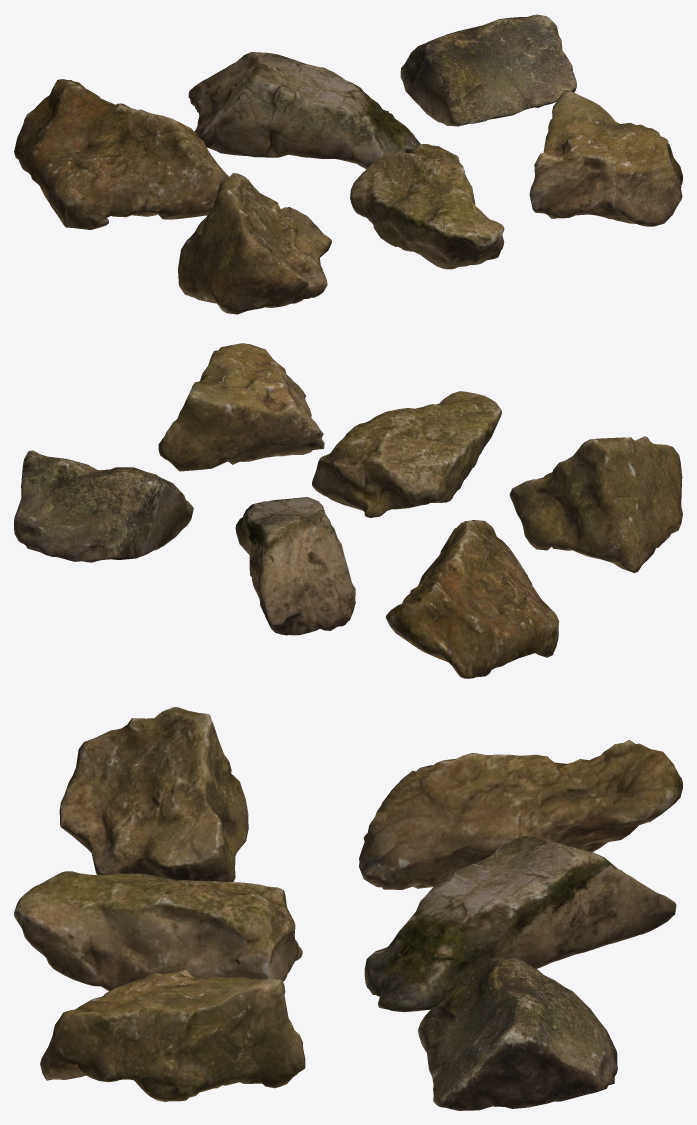
The picture shows the model from 3 angles, top to bottom: view 1: azimuth 30°, elevation 25°; view 2: azimuth 150°, elevation 25°; view 3: azimuth 270°, elevation 25°; orthographic projection. The views are drawn at different scales.
Visible parts, largest first — view 1: rock_moss_set_01_rock01, rock_moss_set_01_rock02, rock_moss_set_01_rock06, rock_moss_set_01_rock04, rock_moss_set_01_rock03, rock_moss_set_01_rock05; view 2: rock_moss_set_01_rock04, rock_moss_set_01_rock01, rock_moss_set_01_rock05, rock_moss_set_01_rock03, rock_moss_set_01_rock06, rock_moss_set_01_rock02; view 3: rock_moss_set_01_rock01, rock_moss_set_01_rock02, rock_moss_set_01_rock05, rock_moss_set_01_rock04, rock_moss_set_01_rock06, rock_moss_set_01_rock03.
Part boxes in pixels (x1,y1,x2,y2): rock_moss_set_01_rock01: (14, 79, 228, 229); rock_moss_set_01_rock02: (188, 52, 420, 169); rock_moss_set_01_rock06: (529, 90, 682, 226); rock_moss_set_01_rock04: (178, 172, 331, 314); rock_moss_set_01_rock03: (400, 14, 576, 126); rock_moss_set_01_rock05: (350, 144, 504, 269); rock_moss_set_01_rock04: (509, 436, 682, 573); rock_moss_set_01_rock01: (385, 520, 559, 678); rock_moss_set_01_rock05: (312, 391, 501, 517); rock_moss_set_01_rock03: (14, 450, 193, 562); rock_moss_set_01_rock06: (158, 343, 324, 471); rock_moss_set_01_rock02: (235, 497, 355, 635); rock_moss_set_01_rock01: (359, 739, 682, 889); rock_moss_set_01_rock02: (364, 836, 676, 1012); rock_moss_set_01_rock05: (14, 871, 302, 991); rock_moss_set_01_rock04: (59, 707, 248, 881); rock_moss_set_01_rock06: (40, 970, 305, 1101); rock_moss_set_01_rock03: (418, 956, 617, 1110).
Size of the model in its own units: 8 by 1.76 by 6.94.
Materials: 1 (1 with a texture image).
